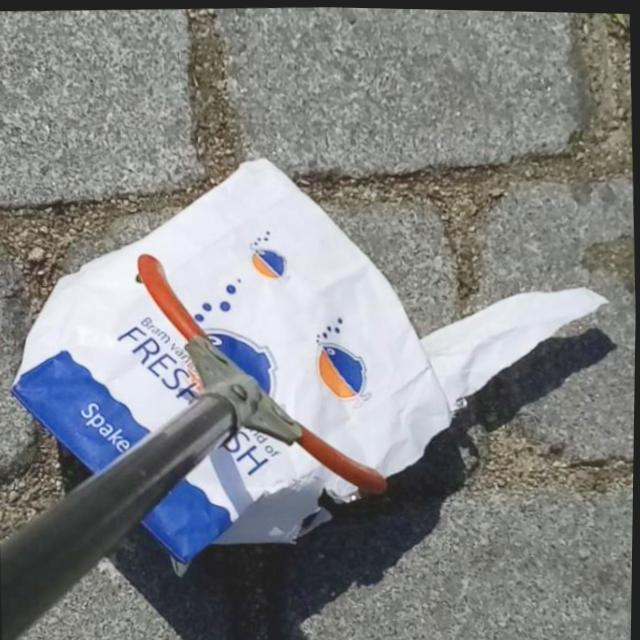Paper: (2, 133, 622, 597)
